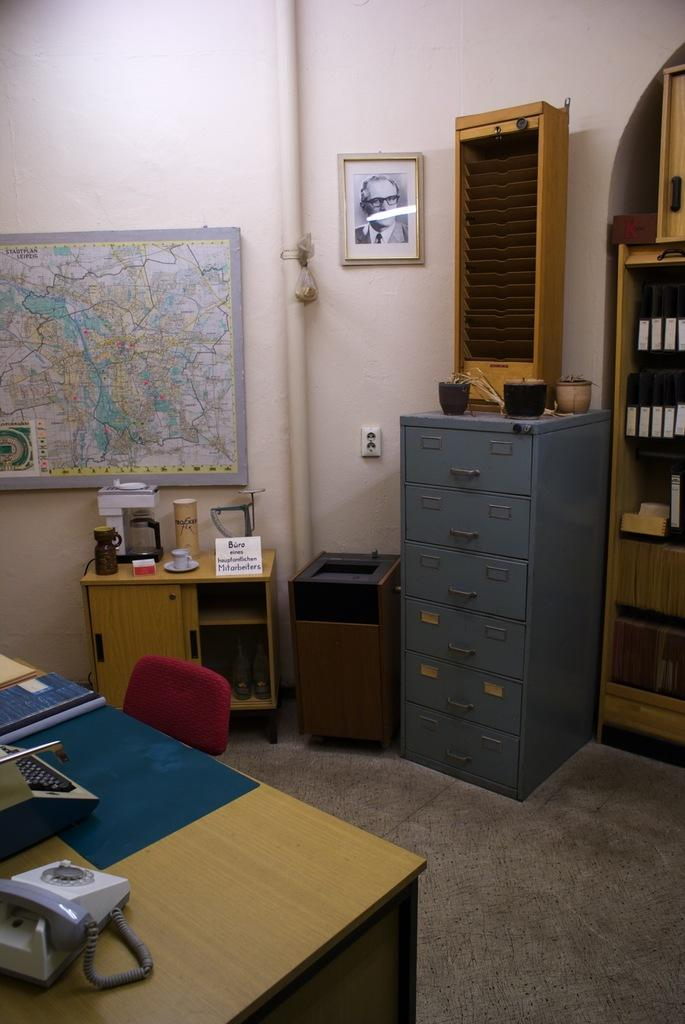cabinet_door: (405, 430, 529, 494), (411, 710, 520, 782), (410, 488, 526, 550), (415, 656, 524, 721), (412, 604, 525, 658), (410, 546, 522, 600), (90, 599, 177, 667), (672, 88, 685, 233)
handle: (447, 516, 480, 552), (444, 736, 474, 772), (447, 579, 481, 610), (449, 457, 481, 485), (445, 636, 477, 664), (446, 694, 473, 722), (90, 628, 104, 676), (672, 169, 682, 216), (187, 622, 199, 656)
